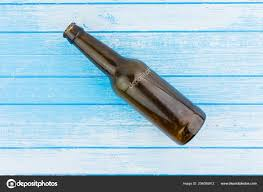beer: (64, 22, 206, 147)
